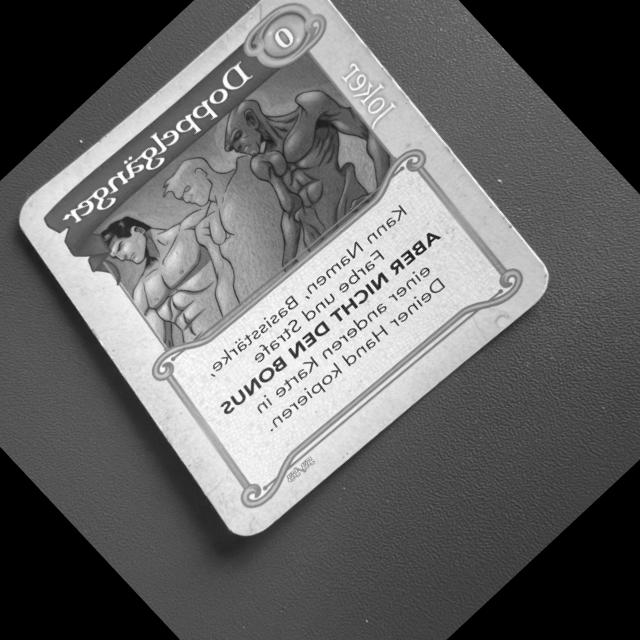Doppelganger: (10, 0, 563, 553)
